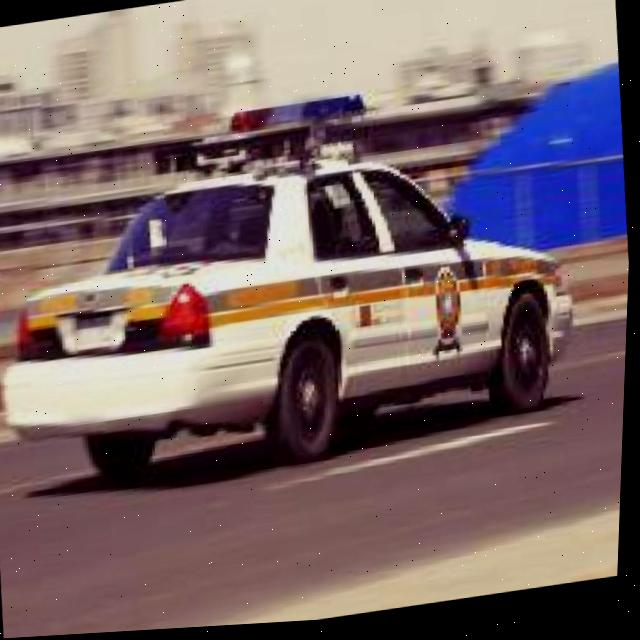emergency: (0, 61, 595, 509)
